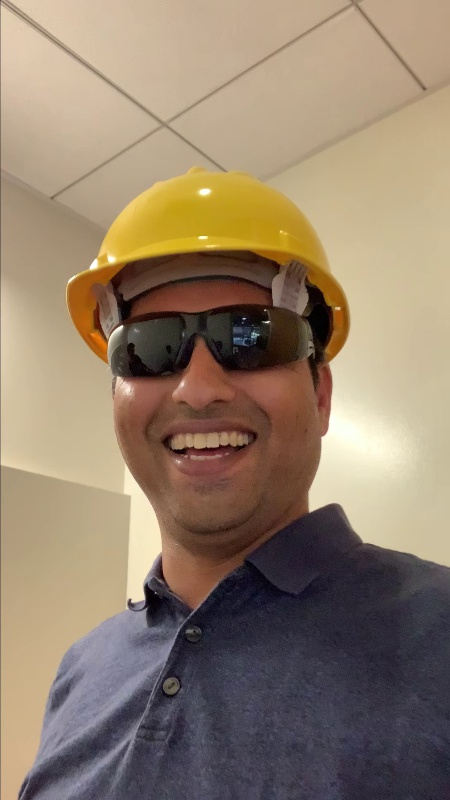glasses: (105, 304, 317, 383)
helmet: (70, 165, 341, 311)
